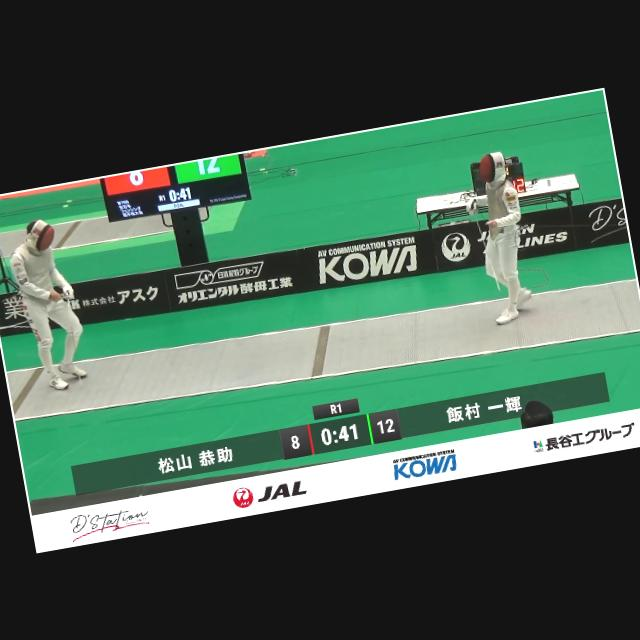blade: (58, 290, 96, 396), (464, 199, 504, 298)
